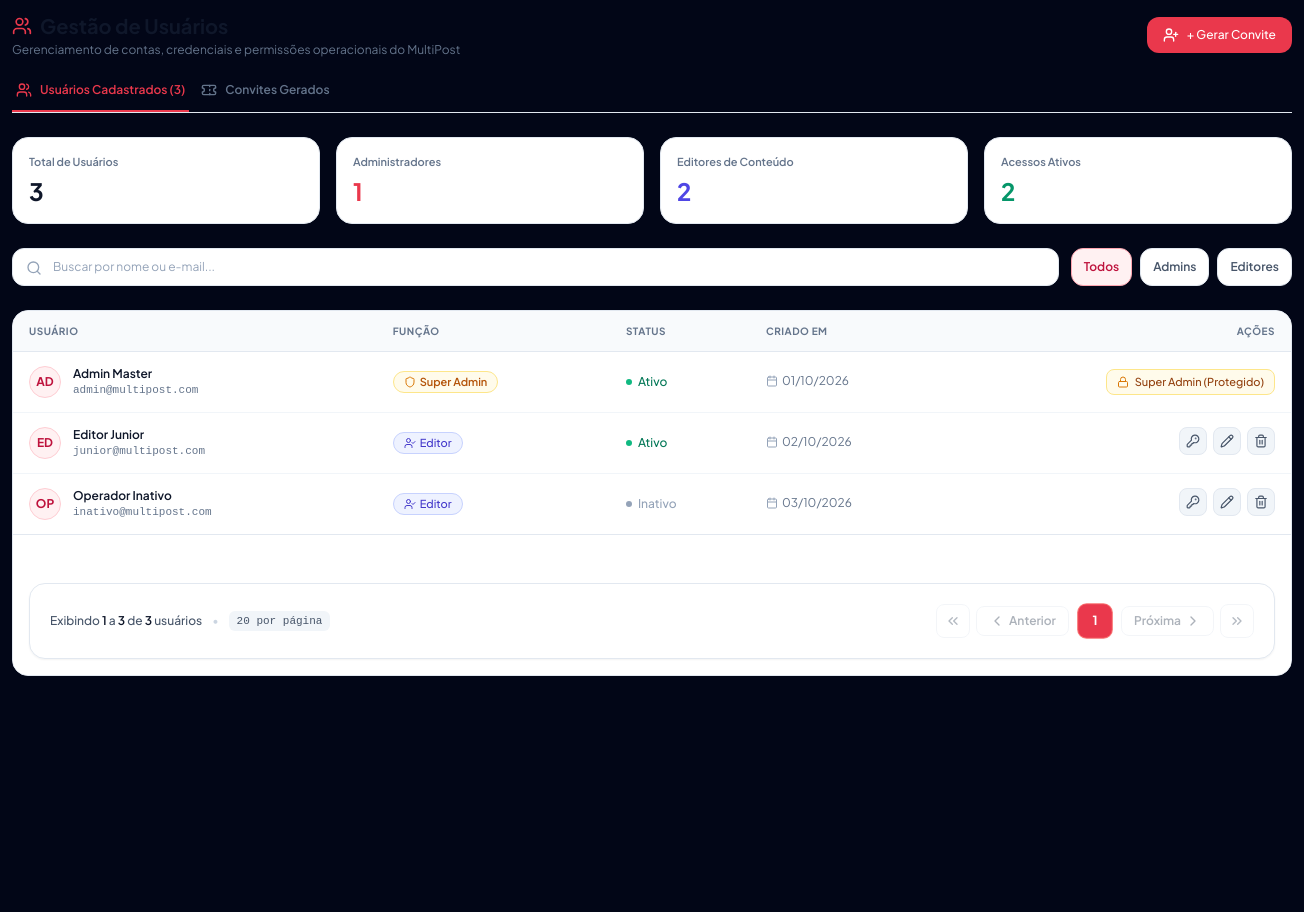
it: UsersManagement Component › filters users by role buttons
Expected: the text "Admin Master" is shown, [73, 366, 152, 380]
Click the button with test id "filter-role-admin": [1175, 266] box [1140, 248, 1209, 286]
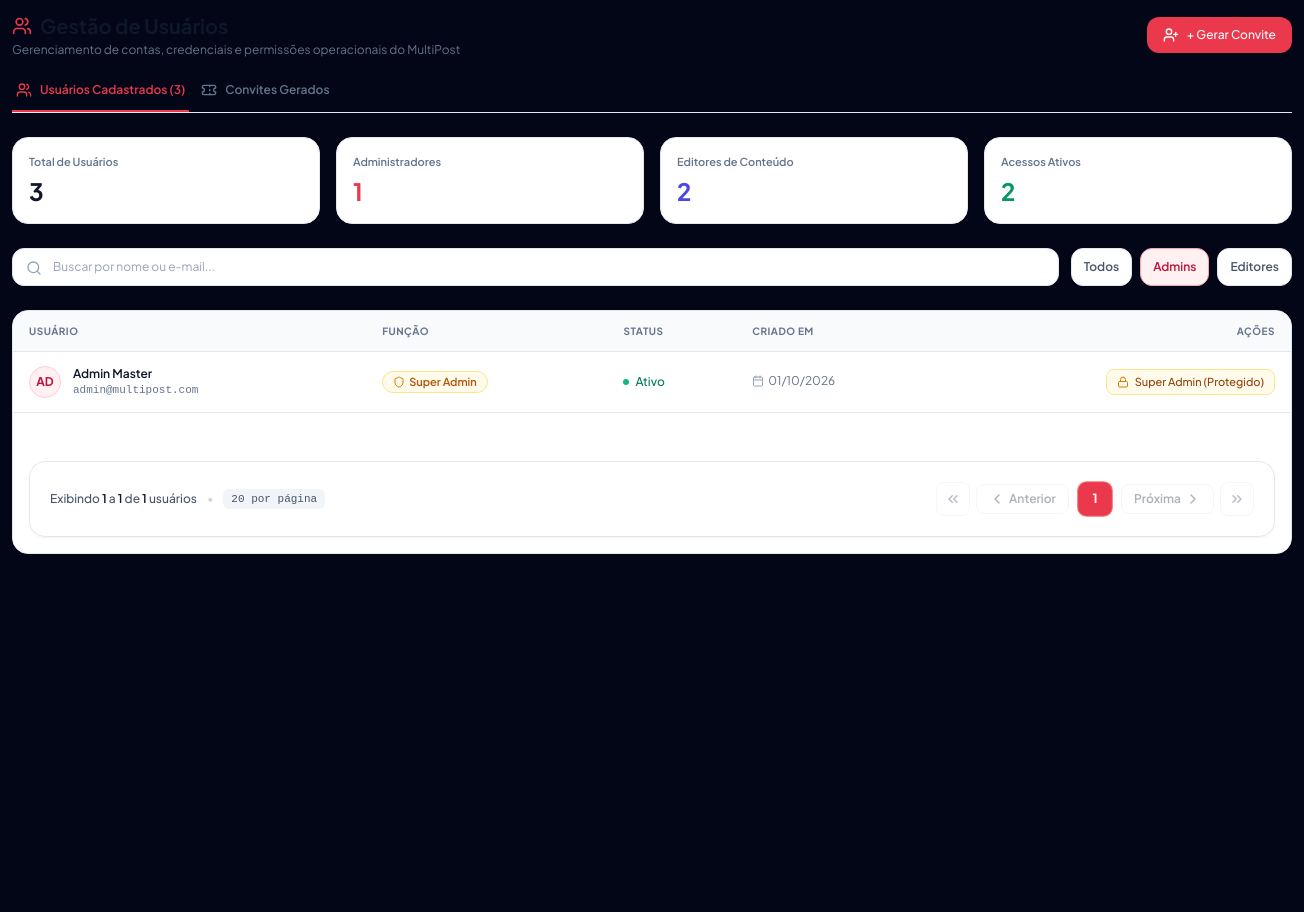
Expected: the text "Admin Master" is shown, [73, 366, 152, 380]
Result: the text "Editor Junior" is gone
Click the button with test id "filter-role-editor": [1255, 266] box [1217, 248, 1292, 286]
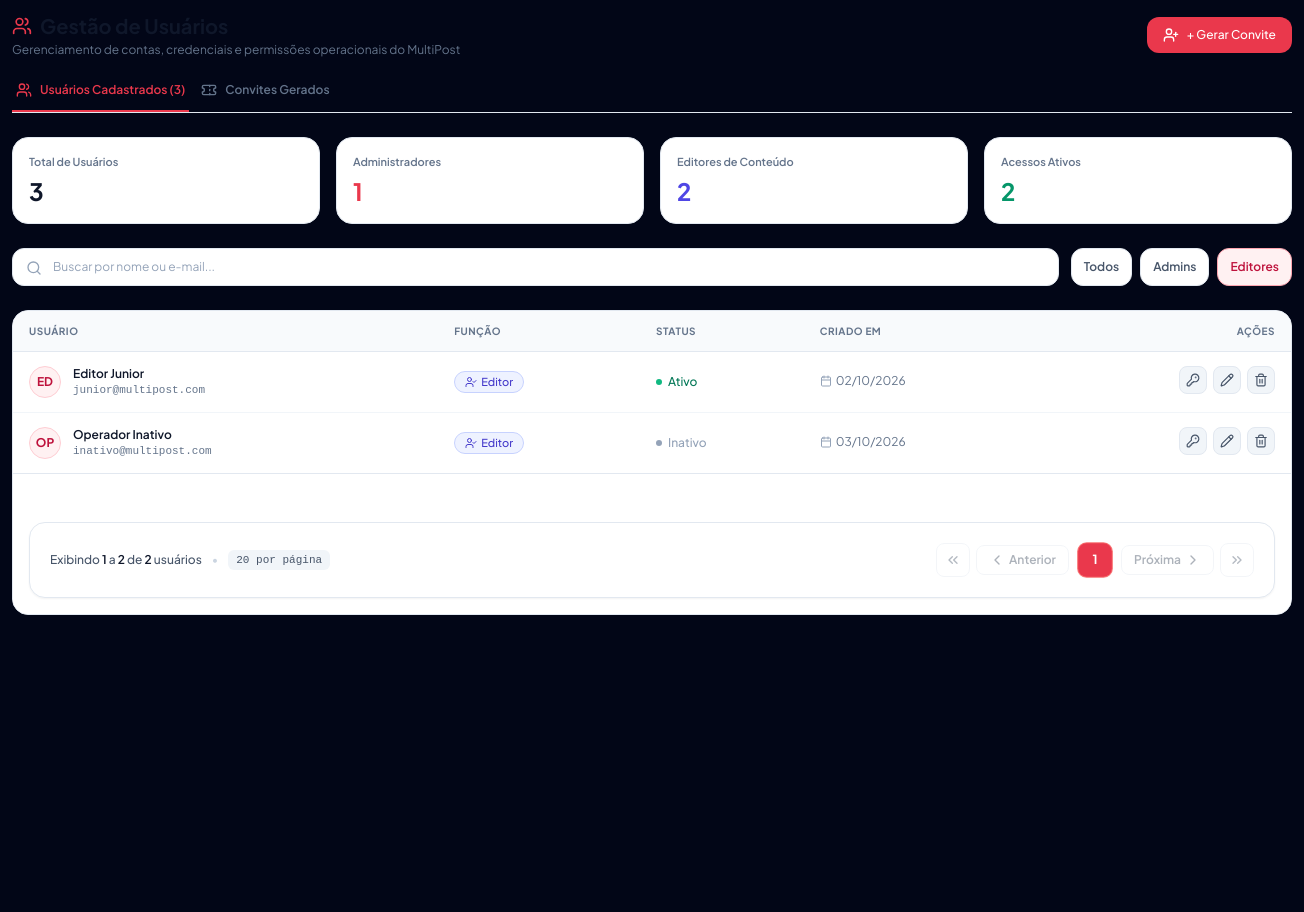
Result: the text "Admin Master" is gone
Result: the text "Editor Junior" is shown at [73, 366, 144, 380]
